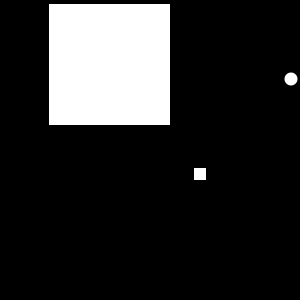circle: (49, 4, 170, 125), (194, 168, 206, 180)
rectangle: (284, 72, 298, 85)
triangle: (91, 36, 113, 58)
